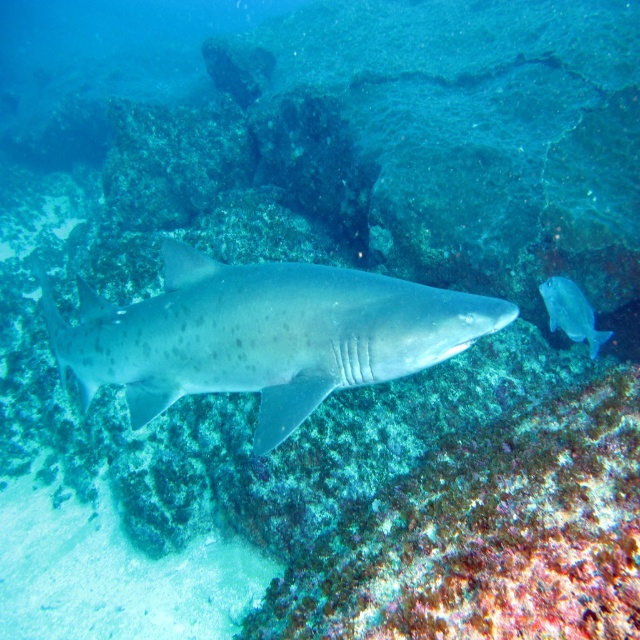Shark: (49, 220, 534, 458)
